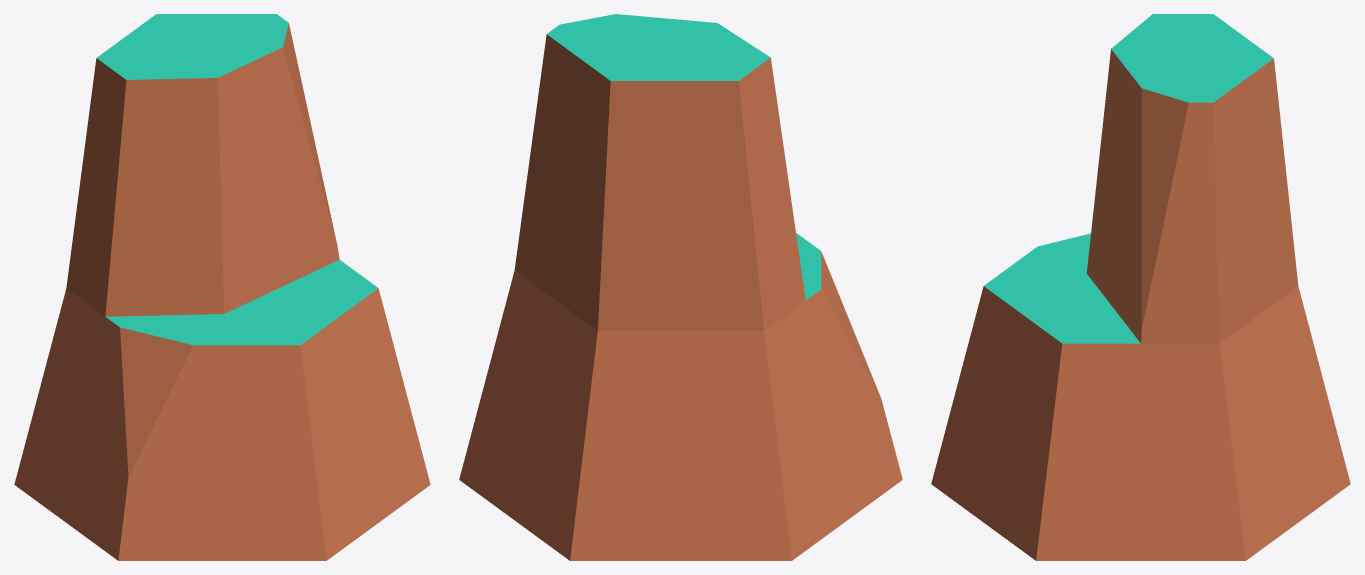
Rendered from rock_tallF.dae.
3 views of the same model, side by side, from view 1: azimuth 30°, elevation 25°; view 2: azimuth 150°, elevation 25°; view 3: azimuth 270°, elevation 25° (orthographic). The views are drawn at different scales.
Visible parts, largest first — view 1: rock_tallF; view 2: rock_tallF; view 3: rock_tallF.
Boxes of the visible parts, x1,y1,x2,y2 form: rock_tallF: (14, 14, 430, 560); rock_tallF: (459, 14, 902, 560); rock_tallF: (931, 14, 1350, 560).
Size of the model in its own units: 0.4437 by 0.5737 by 0.5123.
